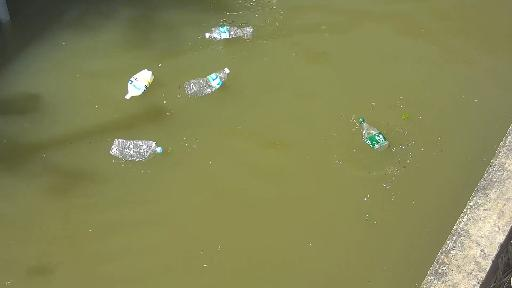leaf: (399, 104, 411, 129)
plastic: (185, 3, 259, 51), (94, 128, 181, 166), (179, 56, 236, 111), (349, 109, 399, 162), (123, 62, 168, 107)
